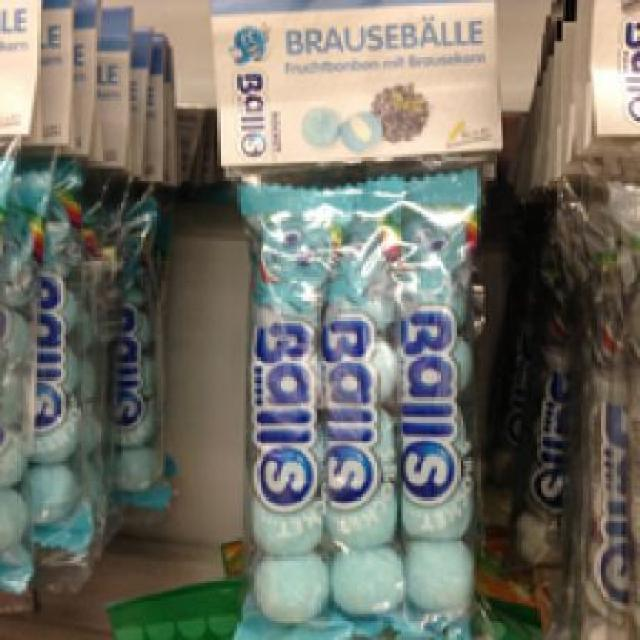Candy: (220, 6, 494, 632), (0, 23, 175, 561)
